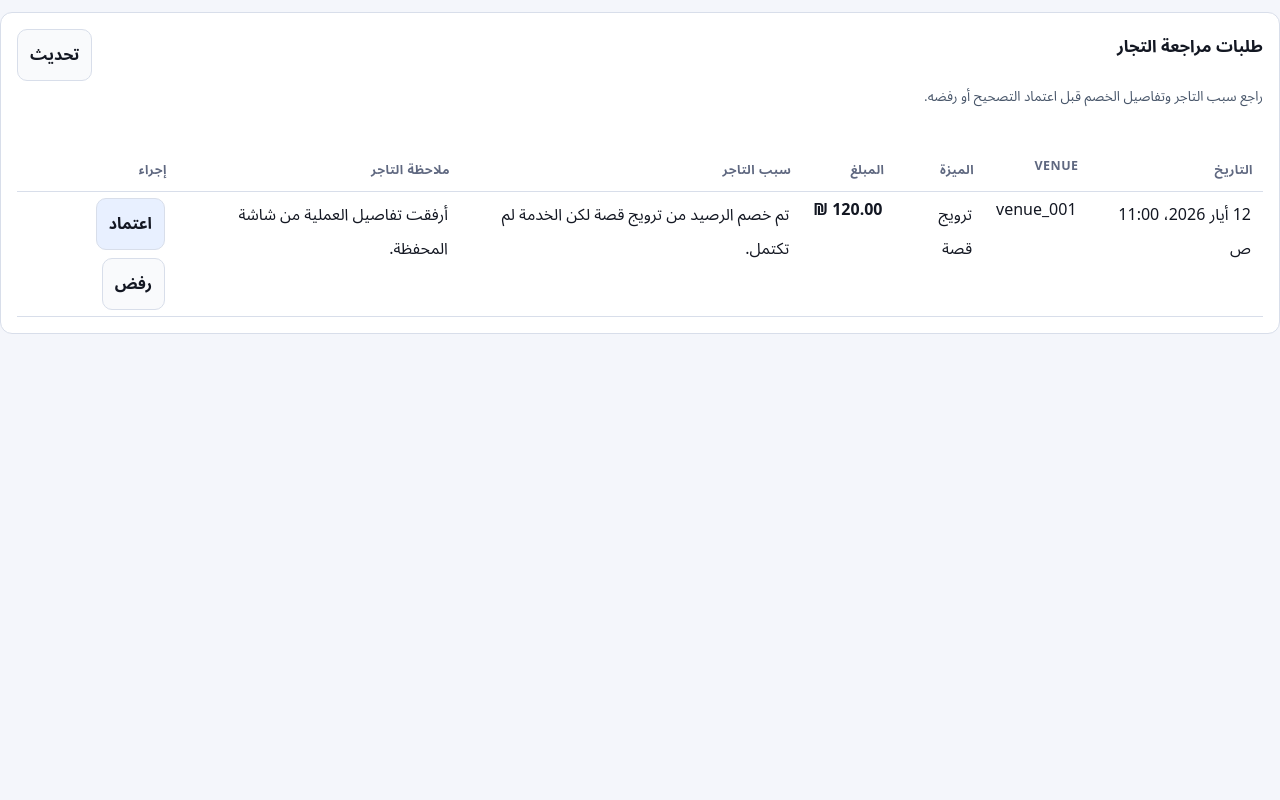
Test: MerchantReversalReviewPanel › opens reject modal
Step 1. Click the button with aria-label "رفض طلب مراجعة merchant_review_entry-001" → click(133, 284), box [102,258,165,310]
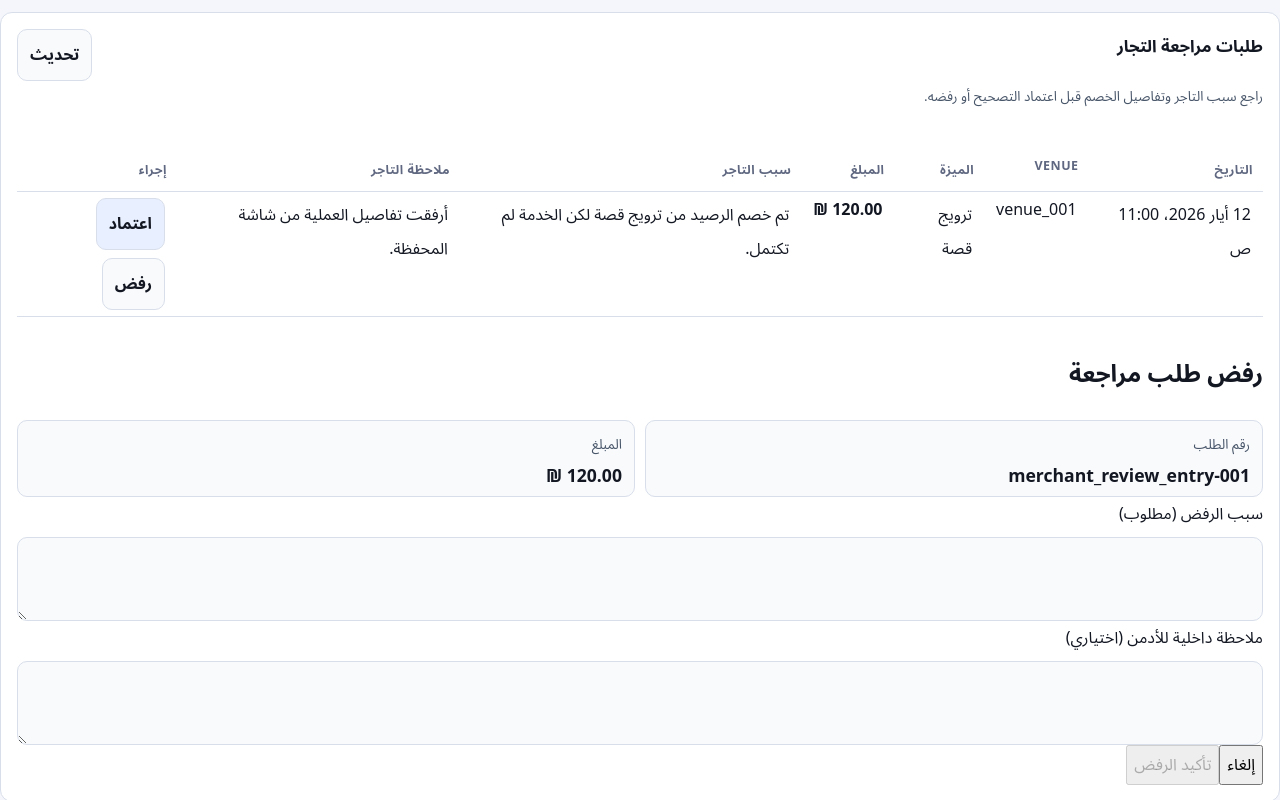
Expected: the dialog is shown, [17,349,1263,785]
Expected: the heading "رفض طلب مراجعة" is shown, [1069,356,1263,389]
